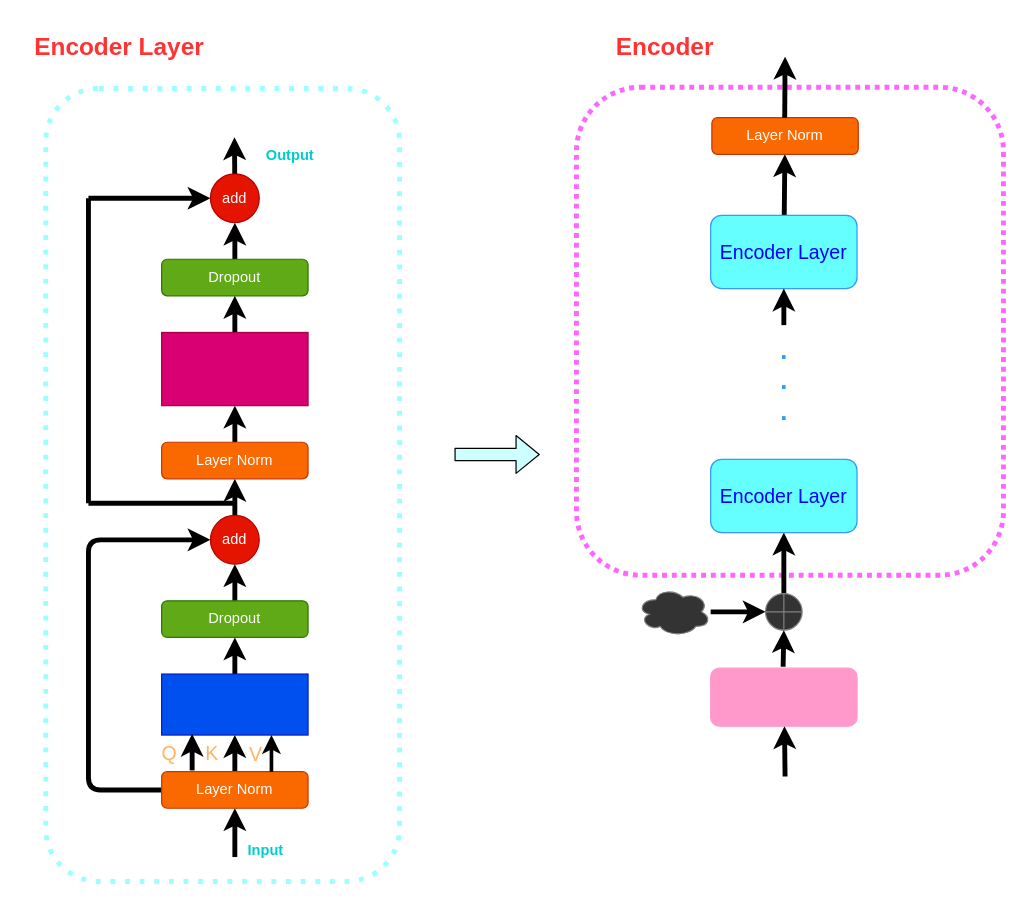
The diagram is 1026 pixels wide and 904 high, and some of its shapes have lost their labels. The shapes that lost their labels are listed below. From the top down, each one's box as (x1, y1, x2, y2) in pixels, then its label:
(160, 331, 308, 406): Feed-Forward
(636, 586, 711, 636): PE
(160, 673, 308, 735): Multihead Attn (self attn)
(709, 667, 857, 726): Input Embedding
